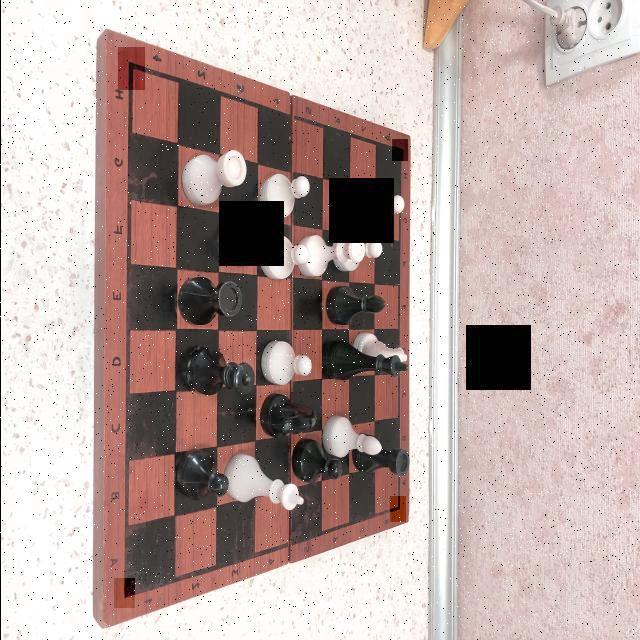chess-table-corners: (117, 47, 144, 90), (113, 578, 134, 608), (389, 496, 405, 522), (391, 139, 406, 161)
